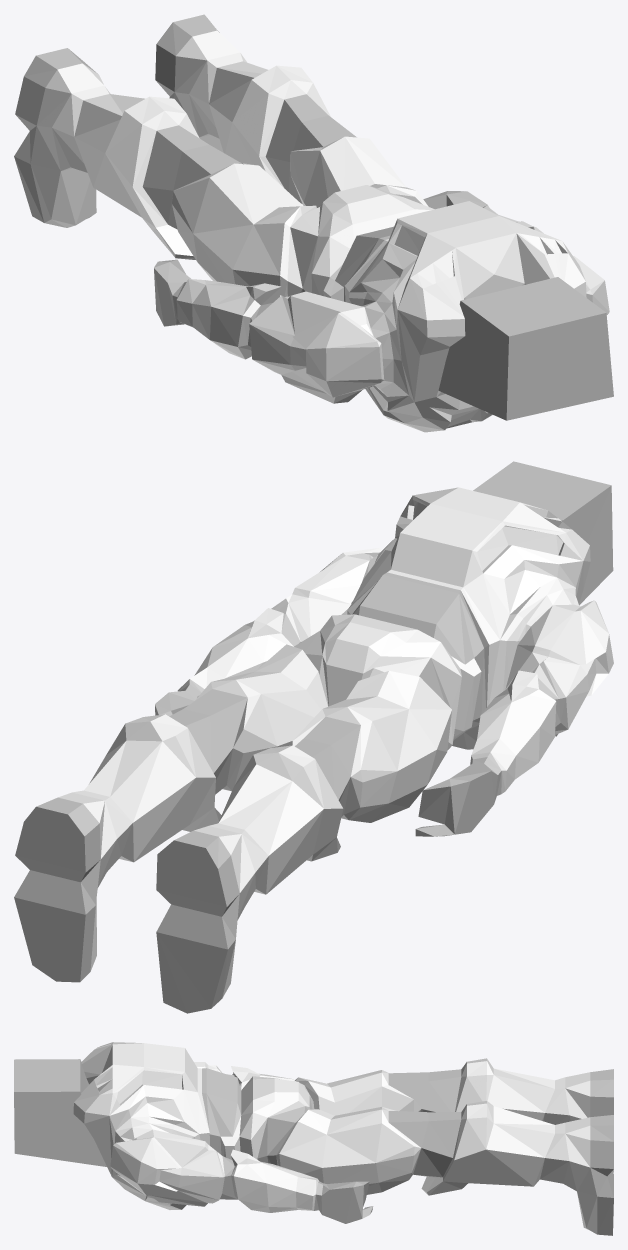
The model's file is mrchief2_wtf.obj.
The picture shows the model from 3 angles, top to bottom: view 1: azimuth 30°, elevation 25°; view 2: azimuth 150°, elevation 25°; view 3: azimuth 270°, elevation 25°; orthographic projection. The views are drawn at different scales.
Parts seen in each view (by area): view 1: group4, group3, group1; view 2: group4, group3, group1; view 3: group4, group3, group1.
Boxes of the visible parts, x1,y1,x2,y2 form: group4: (30,30,609,432); group3: (14,14,489,346); group1: (438,277,613,420); group4: (58,487,613,997); group3: (14,562,560,1013); group1: (473,461,613,605); group4: (73,1042,597,1234); group3: (120,1068,613,1235); group1: (14,1059,106,1166).
Bounding box in the file's own units: 284 × 193 × 660.
